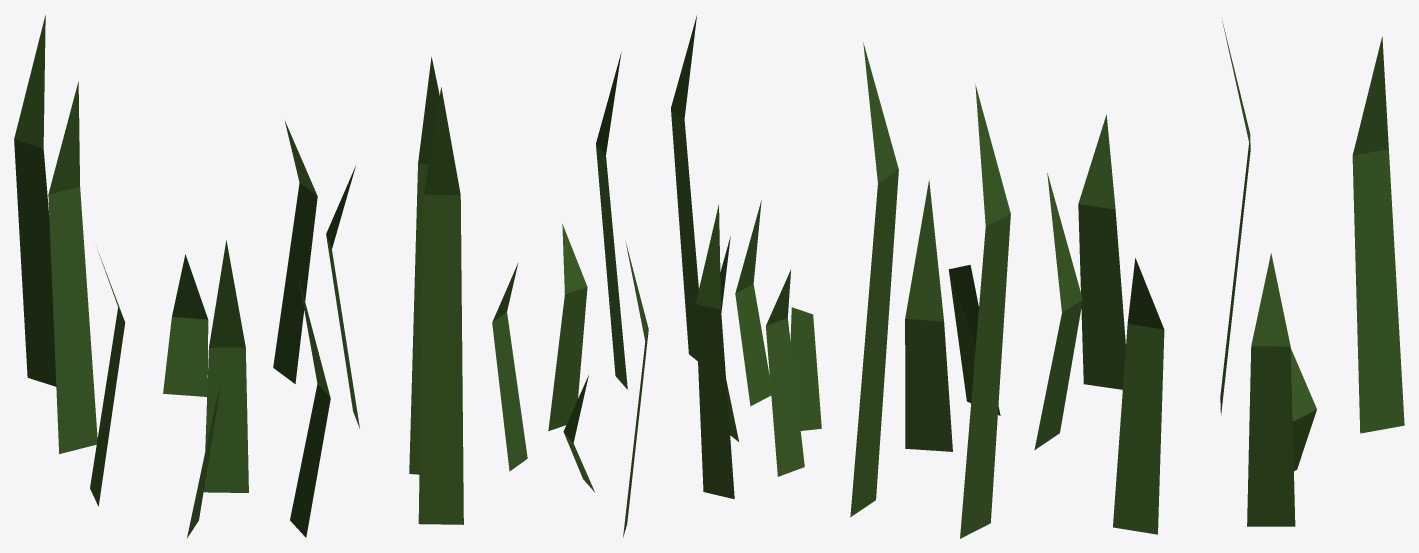
The model's file is grass_tuft.glb.
3 renders of one model, left to right at view 1: azimuth 30°, elevation 25°; view 2: azimuth 150°, elevation 25°; view 3: azimuth 270°, elevation 25°, orthographic. The views are drawn at different scales.
Parts seen in each view (by area): view 1: grass_tuft; view 2: grass_tuft; view 3: grass_tuft.
Boxes of the visible parts, <box> form: grass_tuft: <box>14,15,463,537</box>; grass_tuft: <box>492,15,821,537</box>; grass_tuft: <box>850,21,1404,538</box>.
Bounding box in the file's own units: 0.2991 × 0.4041 × 0.4343.
